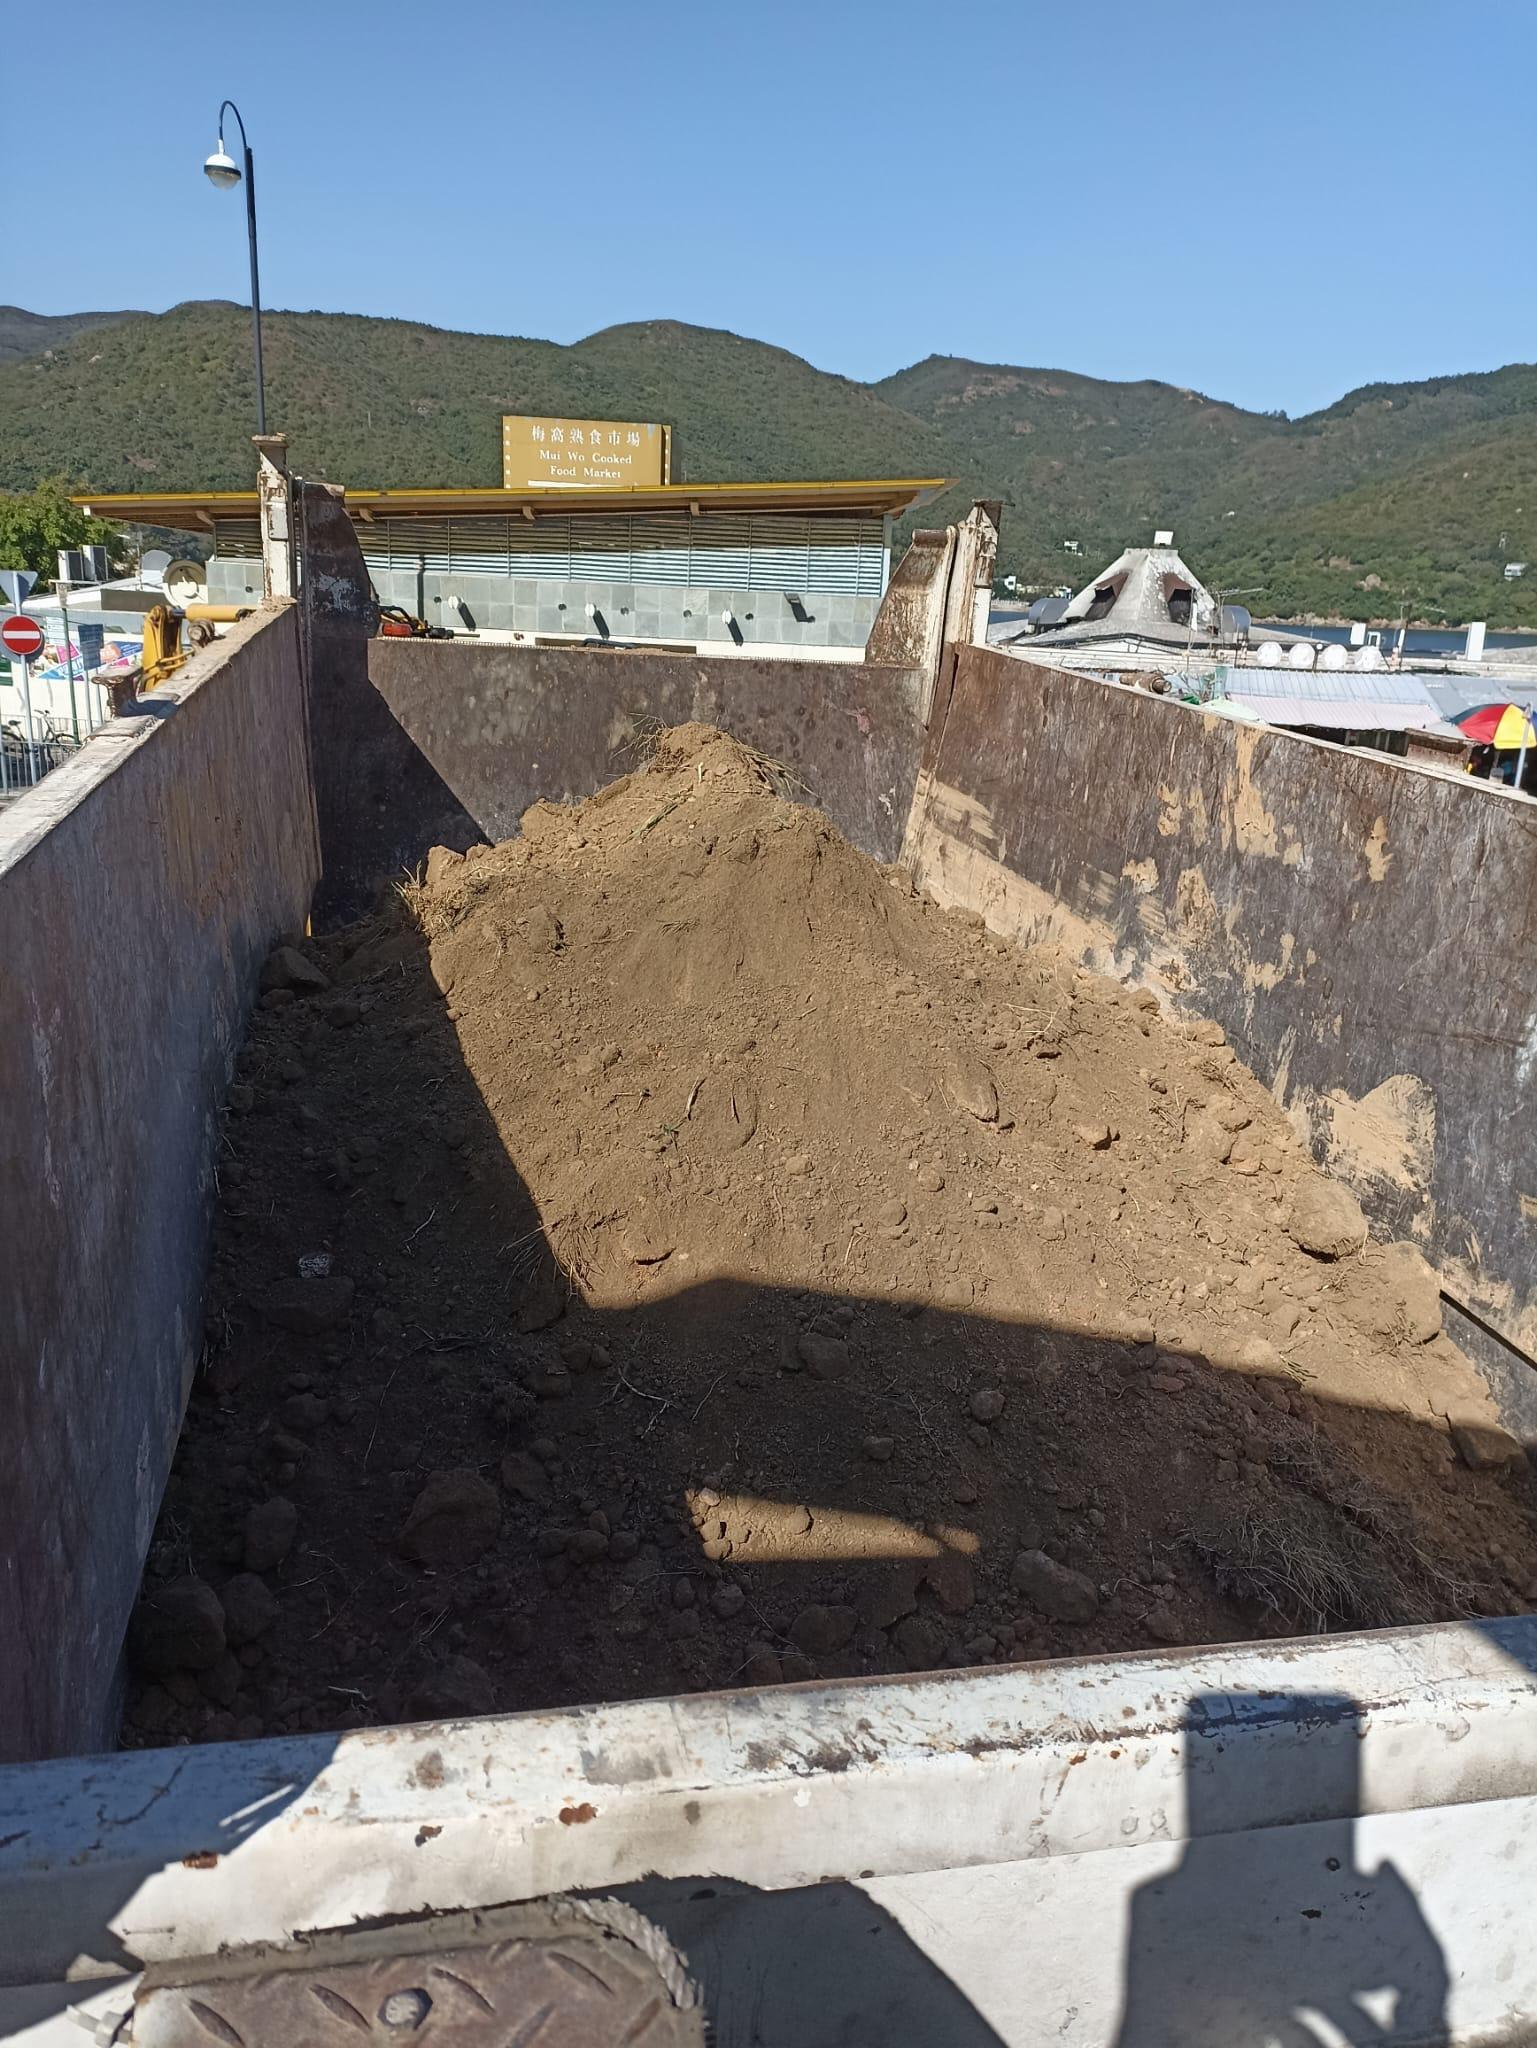dry: (157, 747, 1524, 1743)
